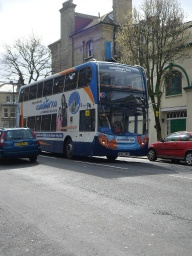bus: (19, 58, 152, 160)
car: (1, 122, 43, 167), (149, 125, 192, 167)
